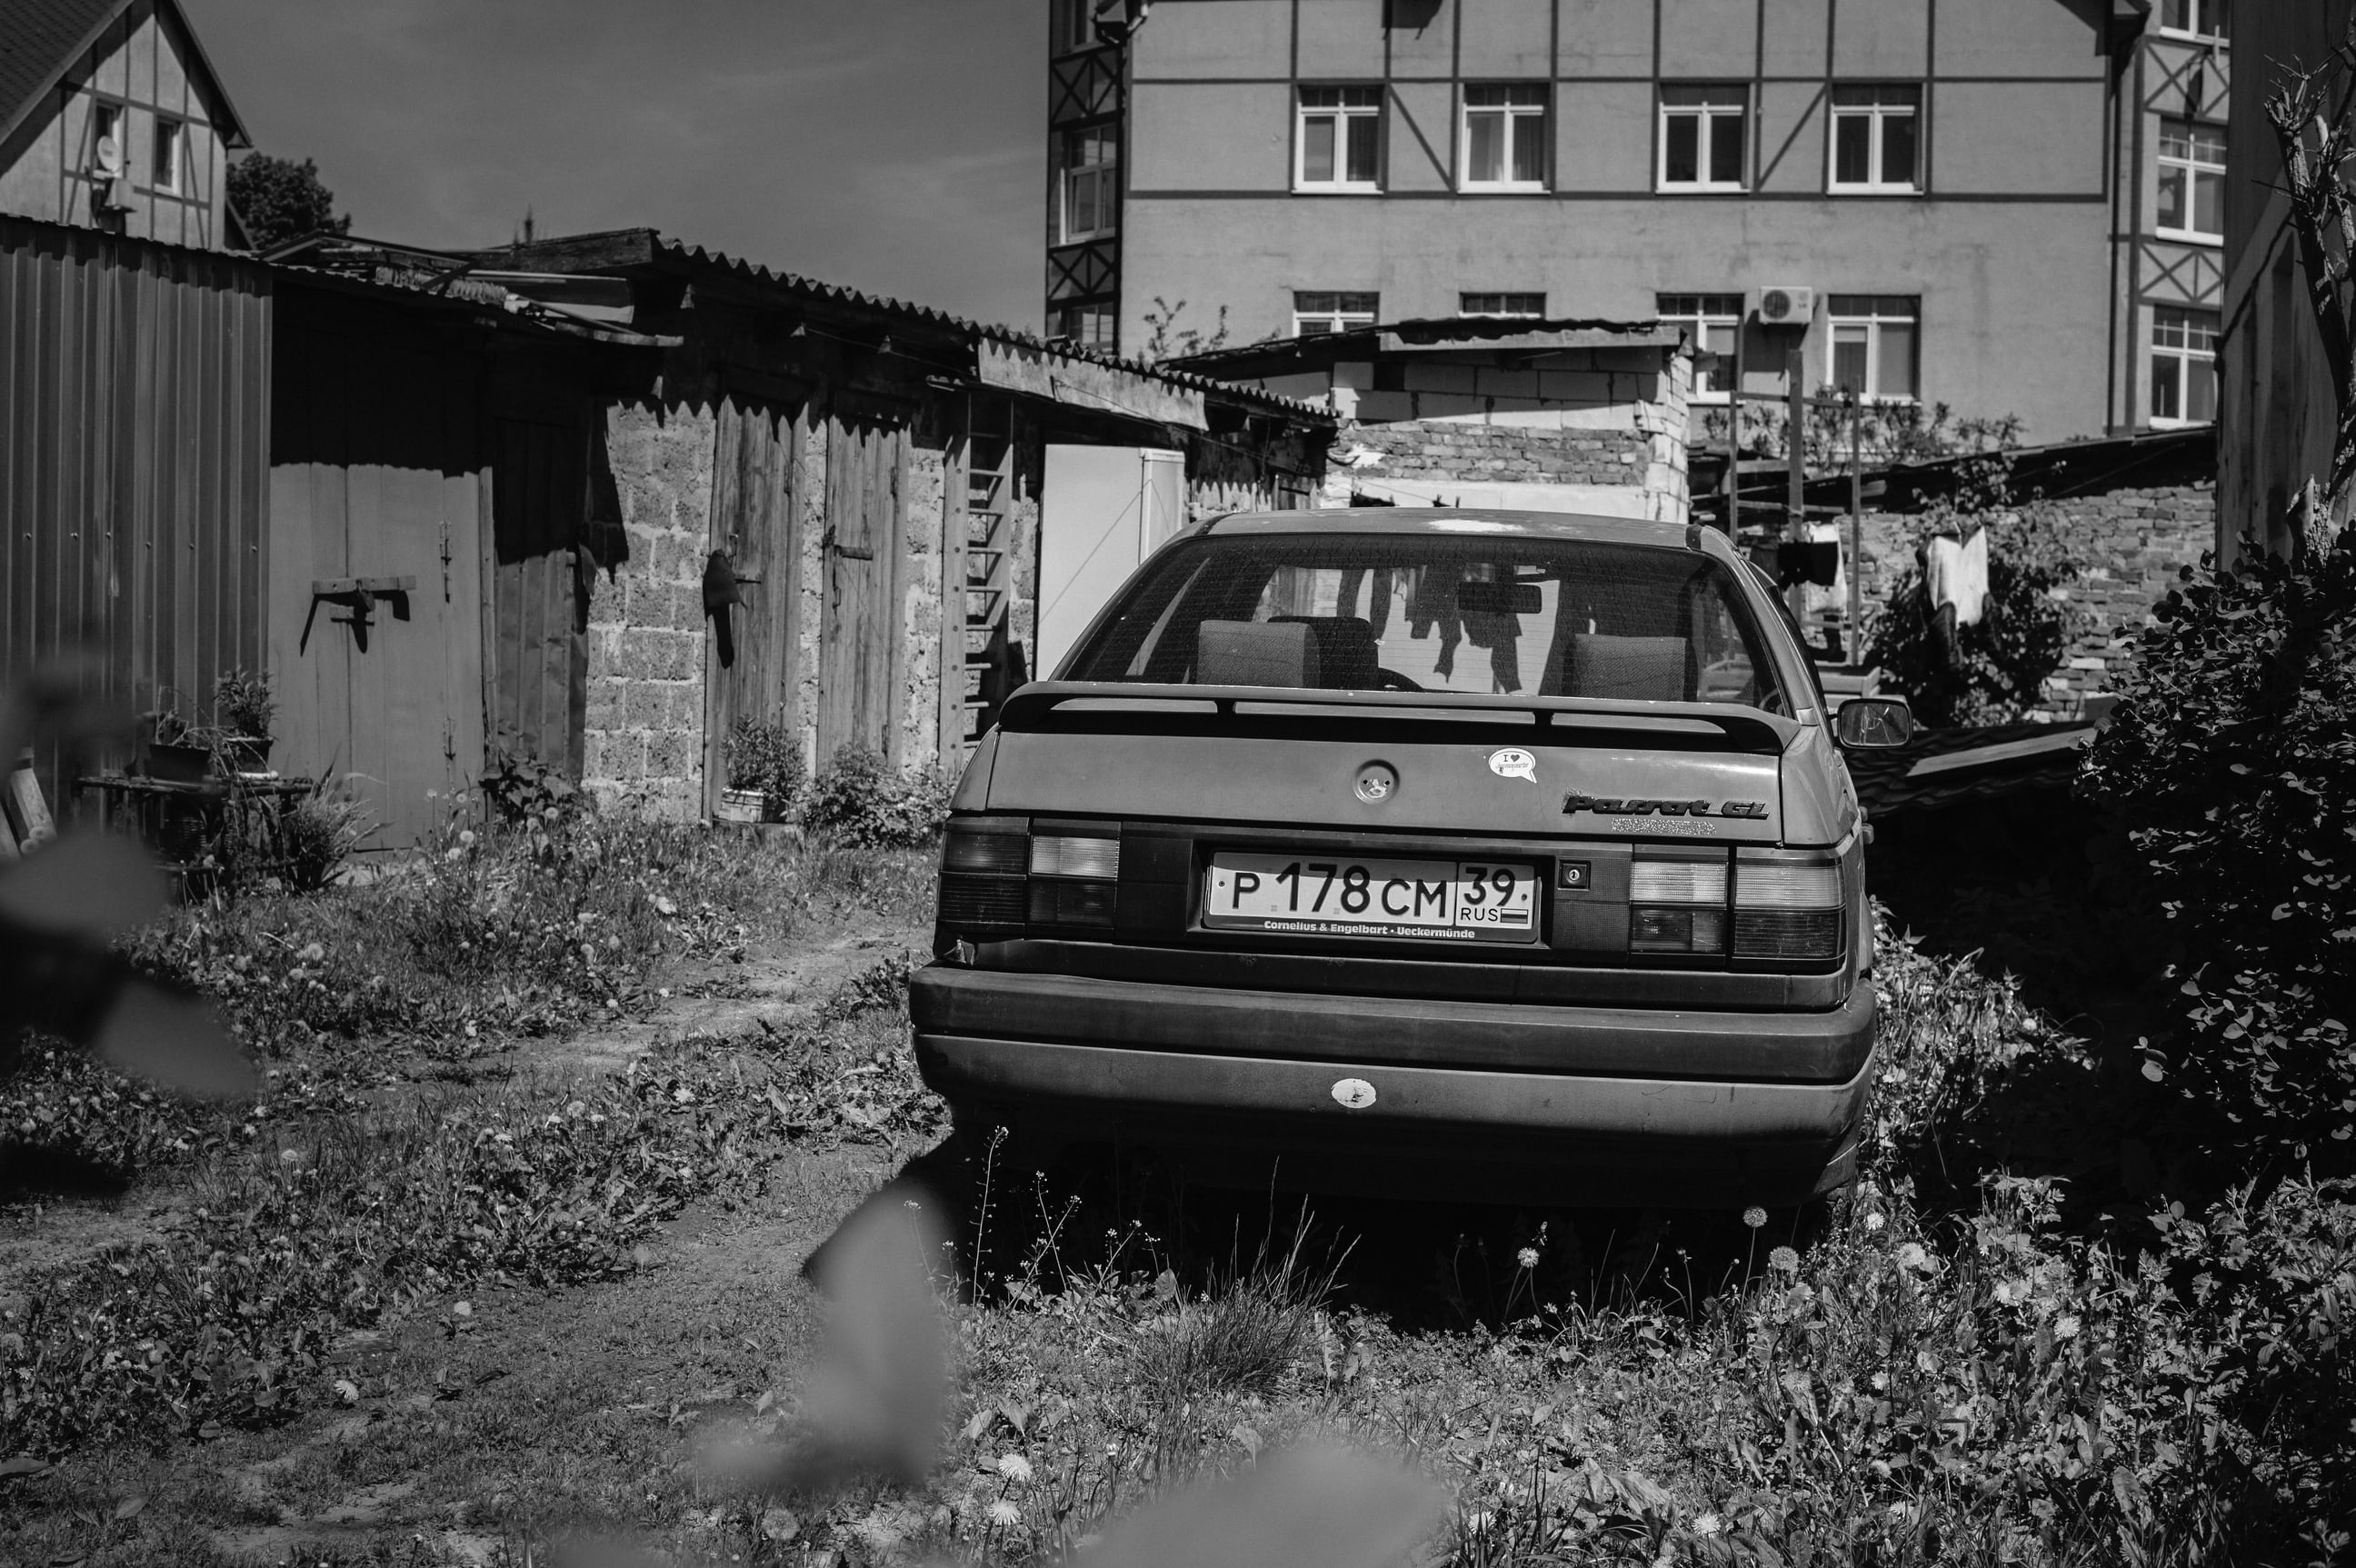plaka: (1203, 841, 1545, 934)
